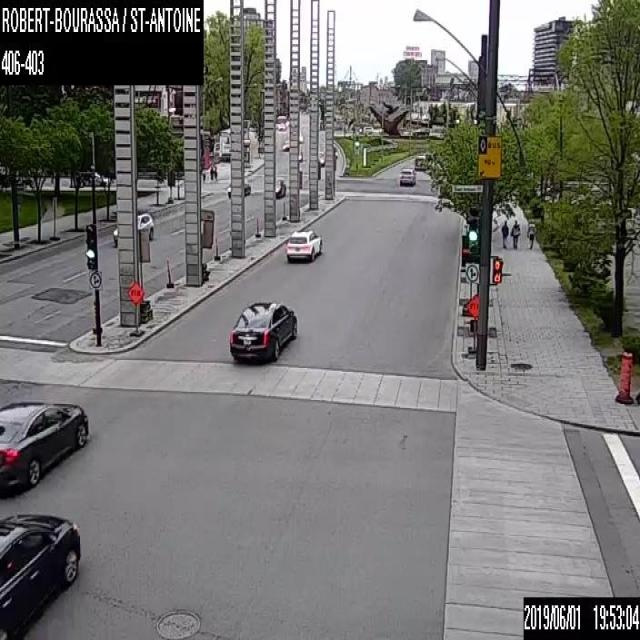bus: (276, 113, 286, 129)
construction: (137, 229, 151, 321), (126, 280, 144, 336), (200, 208, 213, 282), (615, 350, 632, 404), (466, 293, 479, 356)
pedestrian: (510, 218, 520, 248), (526, 220, 536, 248), (501, 219, 508, 248), (209, 166, 214, 182), (214, 165, 217, 182), (202, 170, 205, 182)
vehicle: (0, 511, 80, 638), (0, 398, 87, 498), (229, 297, 297, 364), (112, 209, 154, 245), (285, 228, 322, 263), (227, 177, 252, 196), (398, 167, 416, 185), (274, 176, 286, 198), (414, 153, 429, 170), (318, 150, 324, 166), (282, 138, 289, 150), (332, 145, 338, 158), (297, 148, 303, 160), (297, 133, 303, 143)
